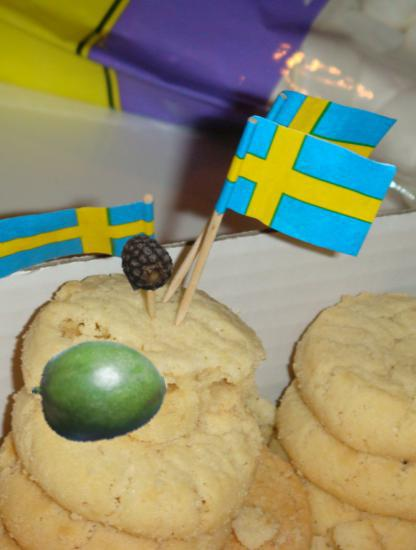Mango: (33, 325, 166, 458)
Pineapple: (116, 233, 178, 295)
